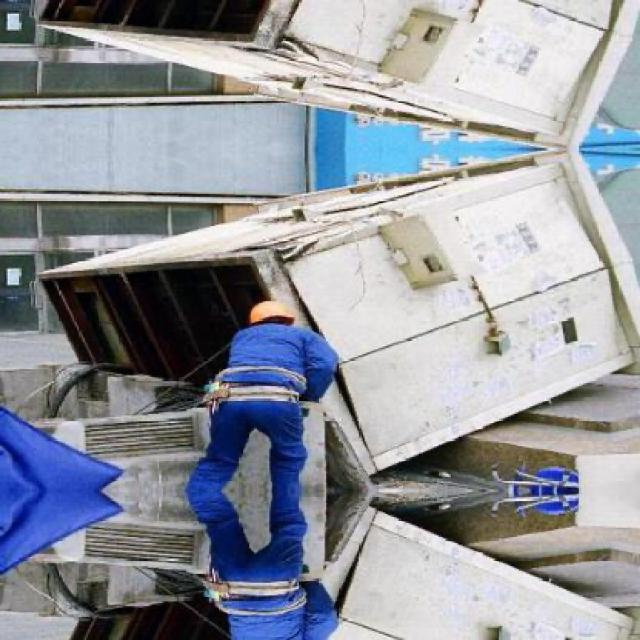helmet: (245, 298, 297, 329)
